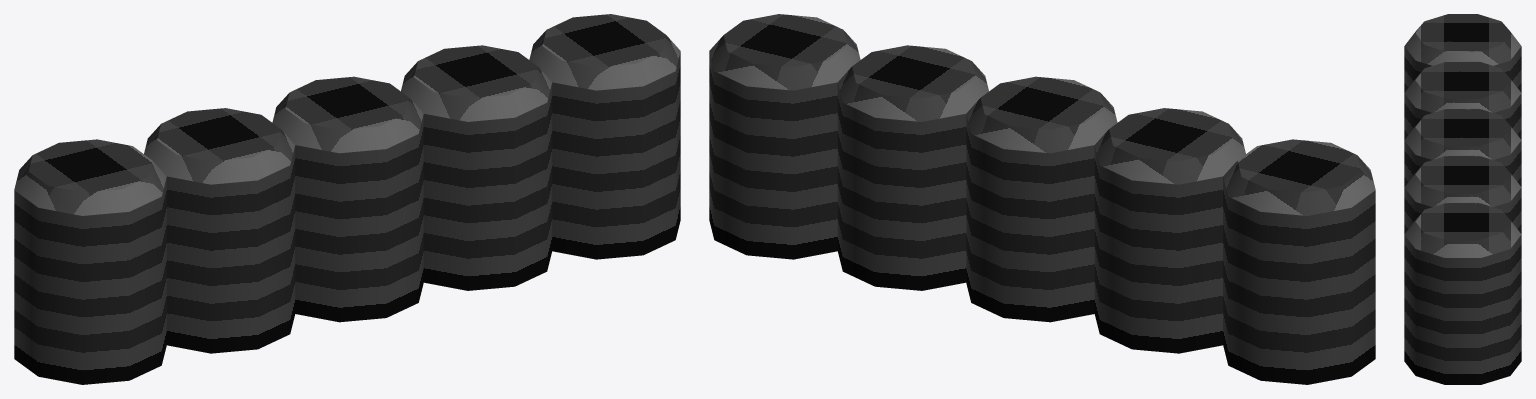
Rendered from tire_wall.obj.
The picture shows the model from 3 angles, left to right: view 1: azimuth 30°, elevation 25°; view 2: azimuth 150°, elevation 25°; view 3: azimuth 270°, elevation 25°; orthographic projection. The views are drawn at different scales.
Visible parts, largest first — view 1: Tire_Wall_Cylinder.001; view 2: Tire_Wall_Cylinder.001; view 3: Tire_Wall_Cylinder.001.
Boxes of the visible parts, left/top/right/bottom form: Tire_Wall_Cylinder.001: left=14, top=14, right=680, bottom=384; Tire_Wall_Cylinder.001: left=709, top=14, right=1375, bottom=384; Tire_Wall_Cylinder.001: left=1404, top=14, right=1521, bottom=384.
Size of the model in its own units: 4.76 by 1.32 by 1.
